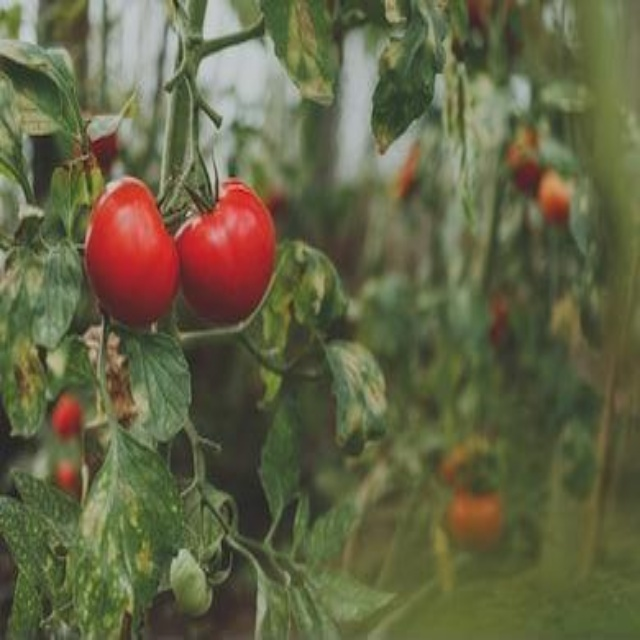tomato: (175, 180, 278, 341), (83, 191, 186, 327)
